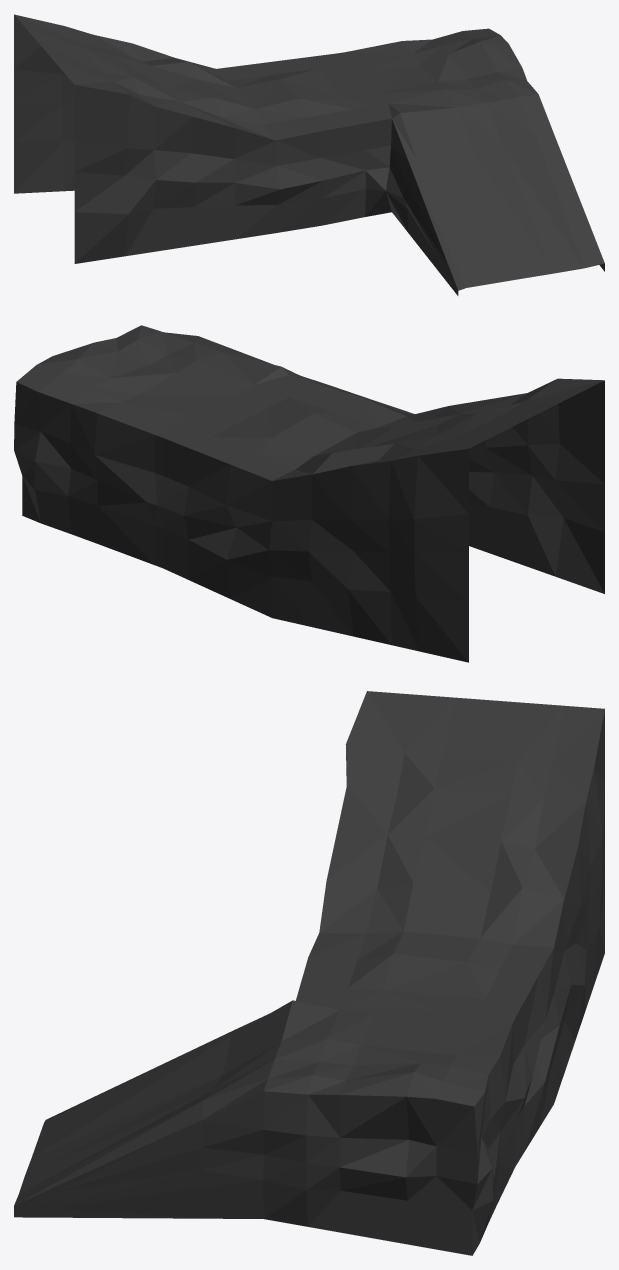
The model's file is Cave_14B_1_LOD_1.fbx.
3 renders of one model, top to bottom at view 1: azimuth 30°, elevation 25°; view 2: azimuth 150°, elevation 25°; view 3: azimuth 270°, elevation 25°, orthographic. The views are drawn at different scales.
Visible parts, largest first — view 1: pCube760; view 2: pCube760; view 3: pCube760.
Part boxes in pixels (<box>): pCube760: <box>14,14,604,295</box>; pCube760: <box>14,325,604,662</box>; pCube760: <box>14,691,604,1255</box>.
Size of the model in its own units: 23.7 by 9.98 by 19.57.
